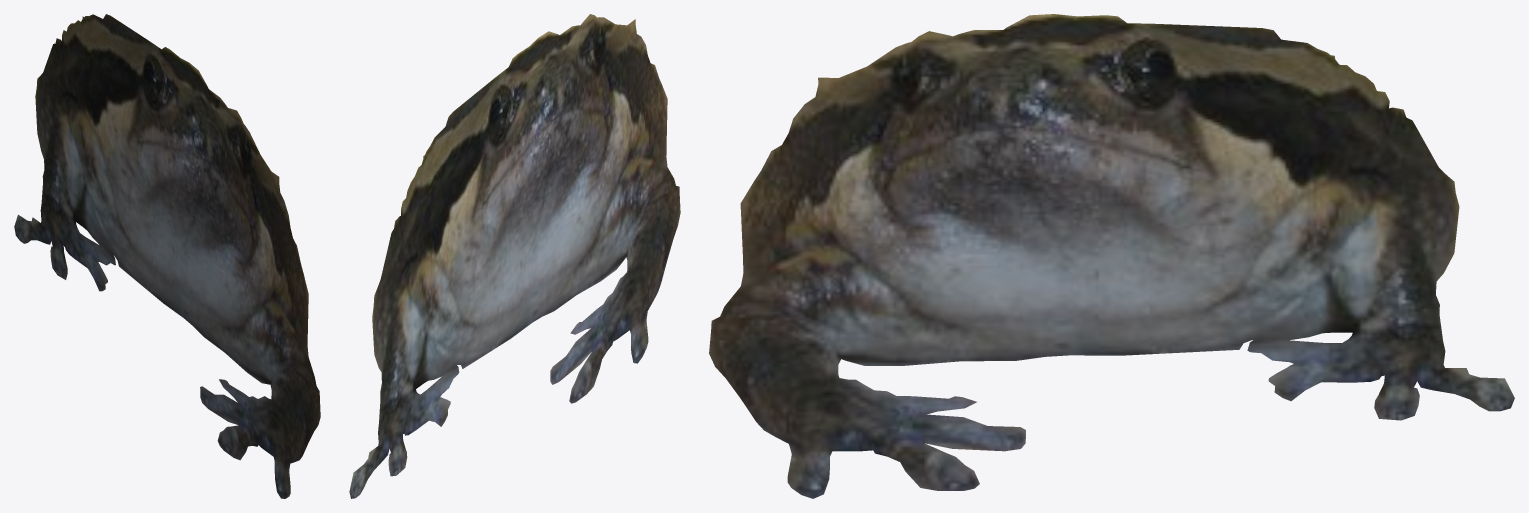
File: frog.dae
The picture shows the model from 3 angles, left to right: view 1: azimuth 30°, elevation 25°; view 2: azimuth 150°, elevation 25°; view 3: azimuth 270°, elevation 25°; orthographic projection. The views are drawn at different scales.
Parts seen in each view (by area): view 1: skpC25B; view 2: skpC25B; view 3: skpC25B.
Part boxes in pixels (box(x1,y1,x2,y2)): skpC25B: box(14, 14, 320, 498); skpC25B: box(349, 14, 680, 498); skpC25B: box(709, 14, 1514, 498).
Bounding box in the file's own units: 0 × 10.21 × 6.78.
Materials: 1 (1 with a texture image).
